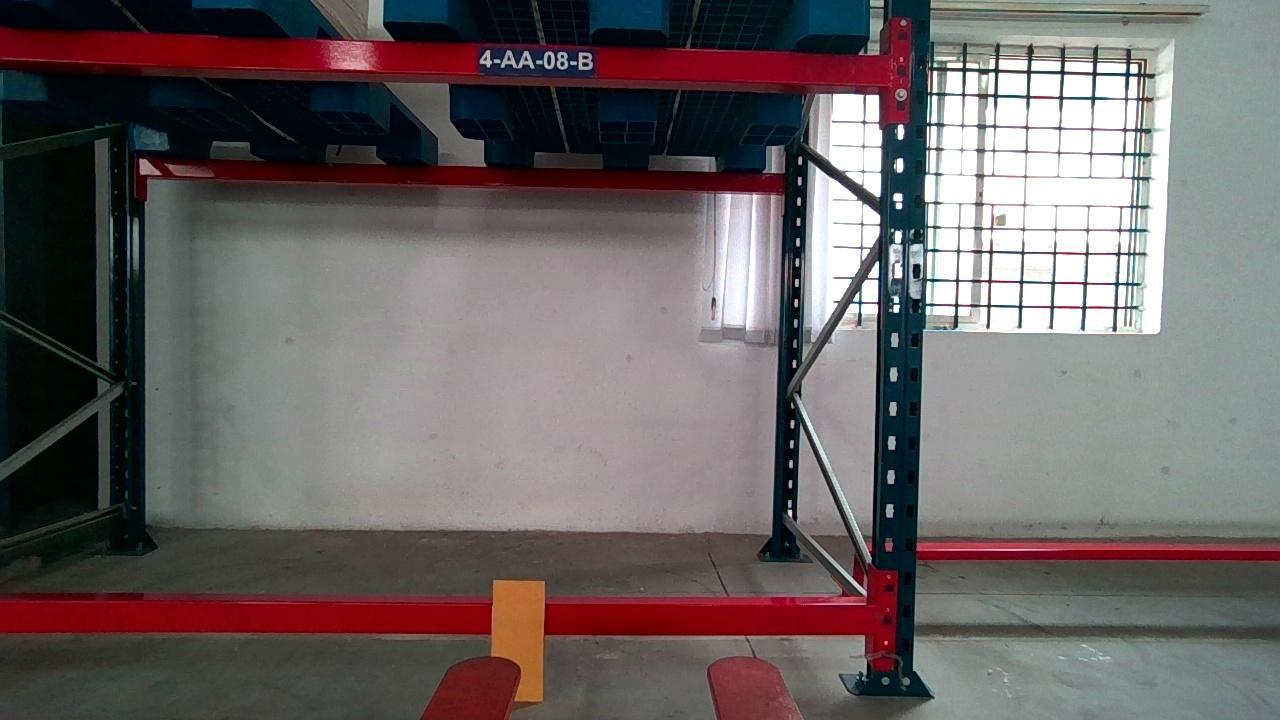h_rack: (0, 28, 894, 86), (3, 599, 870, 639)
orange_strip: (489, 579, 547, 701)
